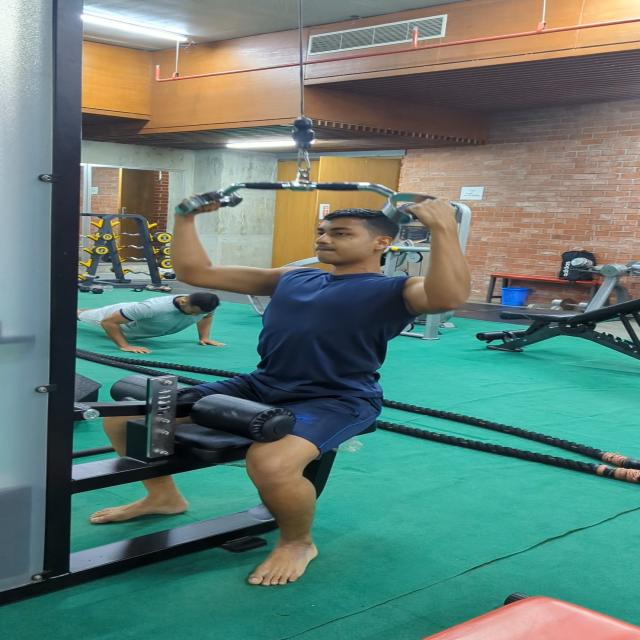Normal_LatPulldown: (89, 188, 486, 594)
